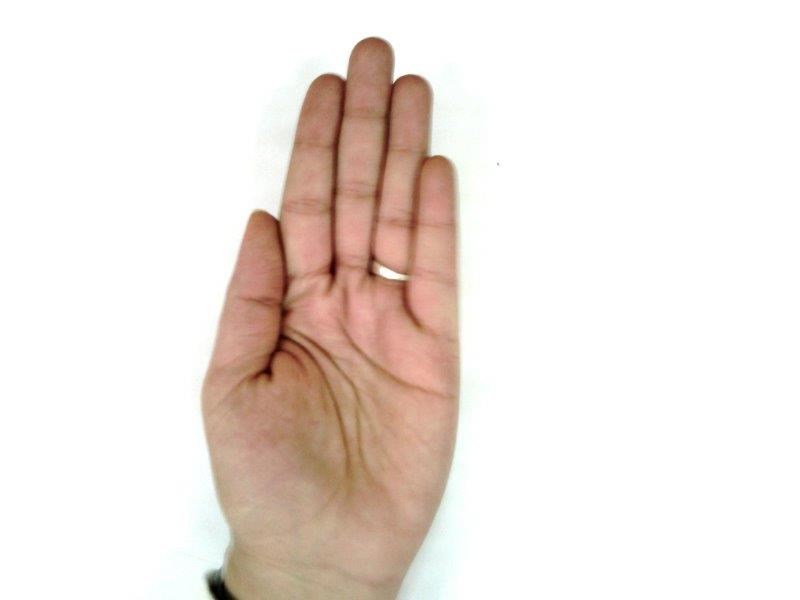hand: (201, 38, 461, 565)
